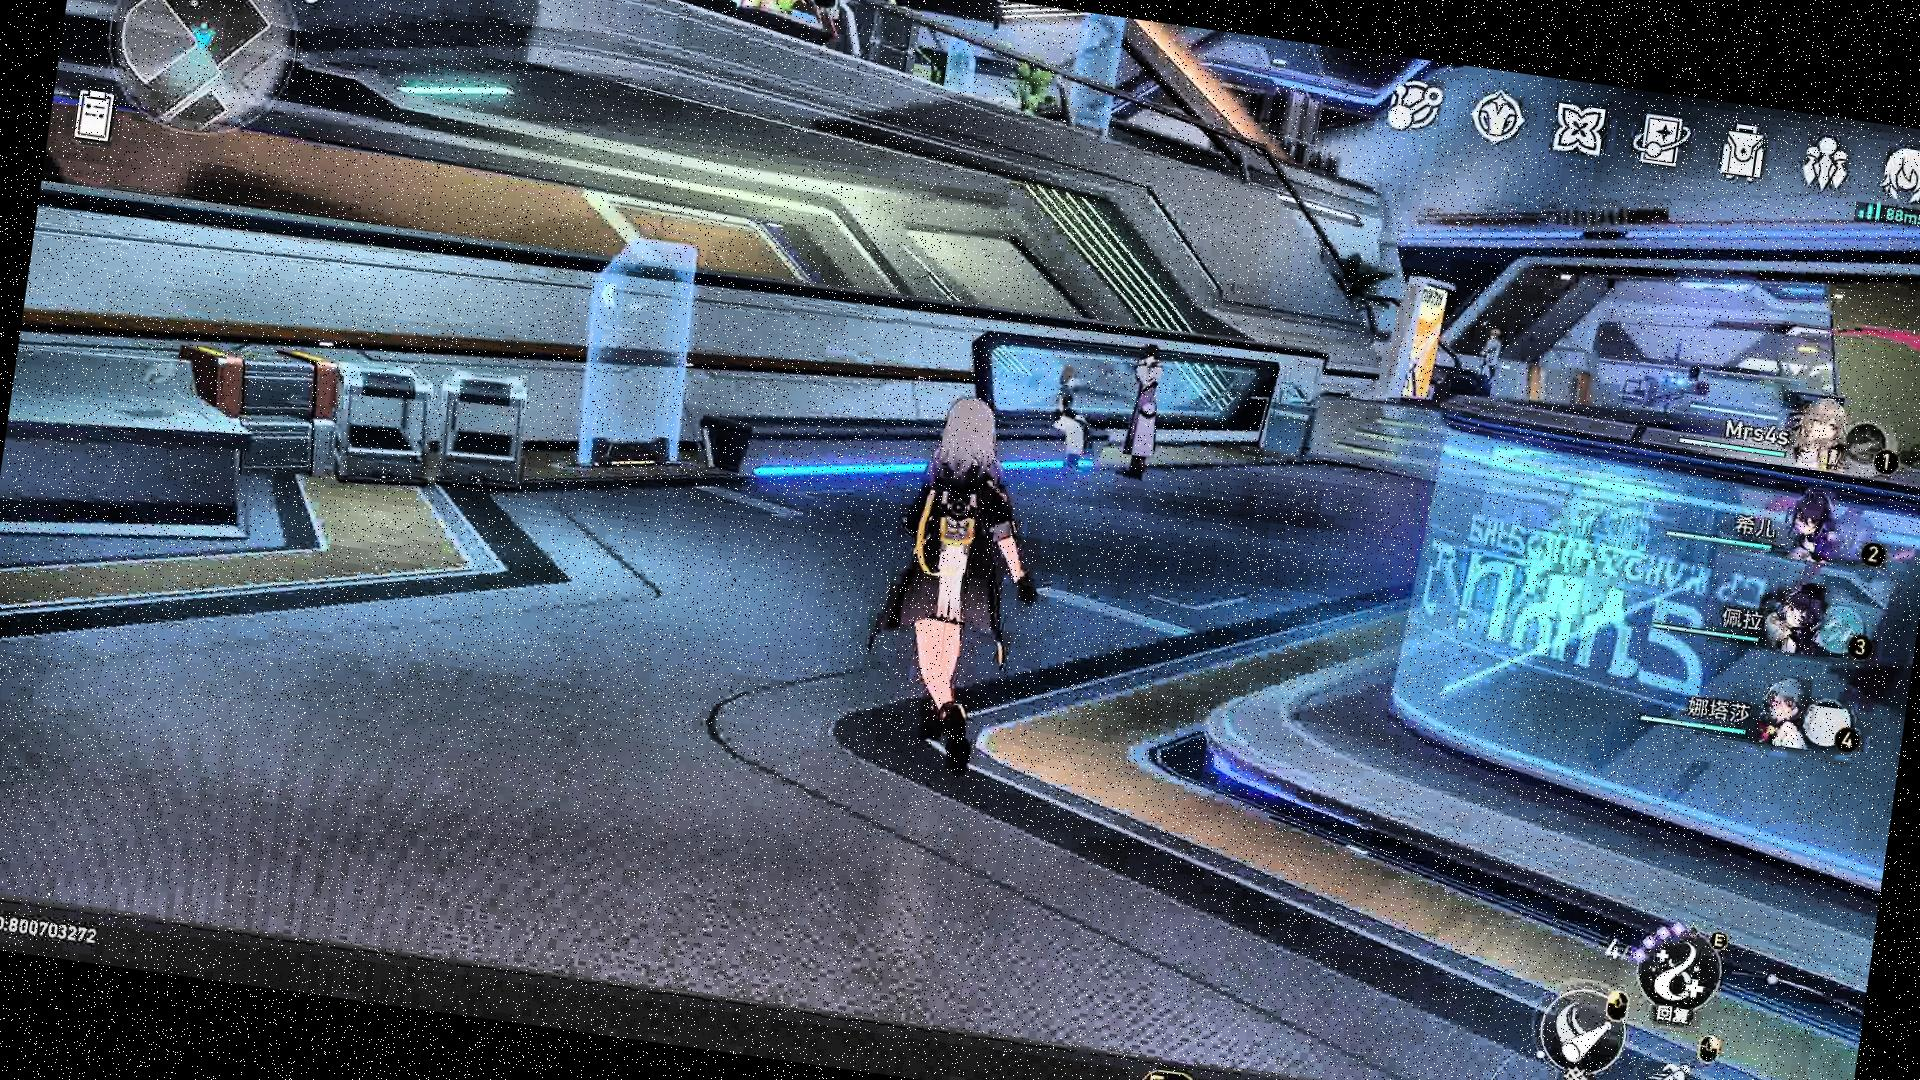Self: (833, 386, 1062, 799)
TeamMate: (1113, 339, 1176, 483), (1039, 363, 1106, 479)
